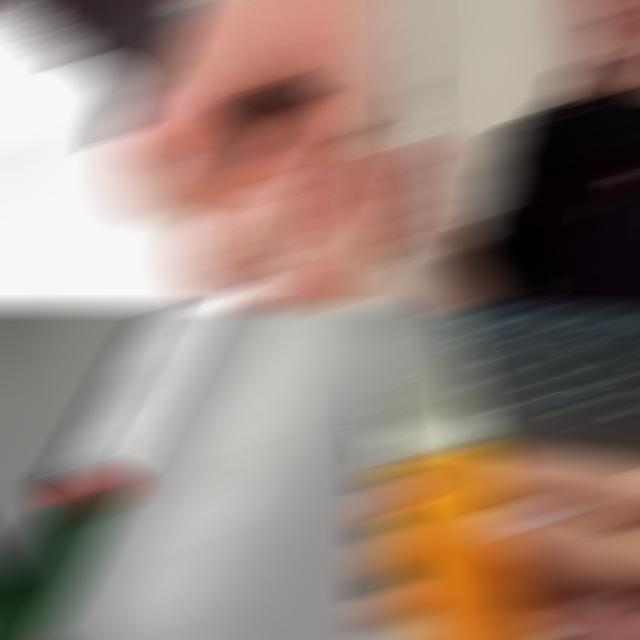Knife: (0, 310, 224, 637), (360, 310, 534, 637), (0, 3, 200, 137)
Knife_Handle: (0, 3, 382, 304), (368, 3, 452, 260)
